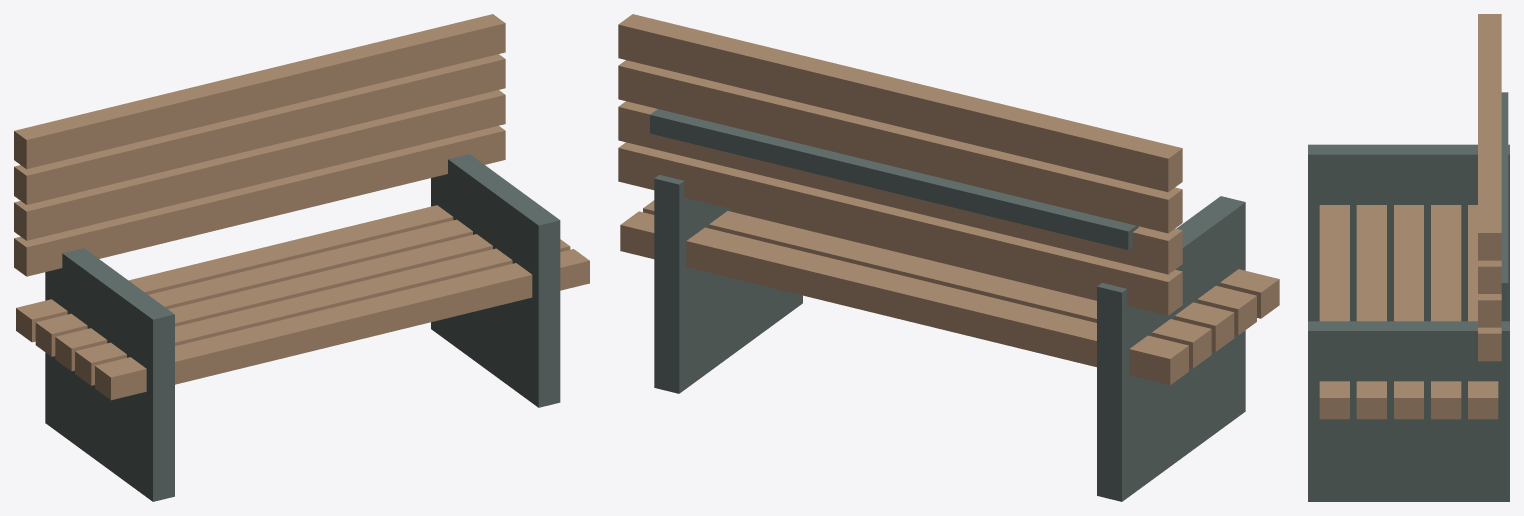
File: slatted-bench-identity.glb
3 renders of one model, left to right at view 1: azimuth 30°, elevation 25°; view 2: azimuth 150°, elevation 25°; view 3: azimuth 270°, elevation 25°, orthographic. The views are drawn at different scales.
Visible parts, largest first — view 1: slatted-bench-wood-identity, slatted-bench-metal-identity; view 2: slatted-bench-wood-identity, slatted-bench-metal-identity; view 3: slatted-bench-metal-identity, slatted-bench-wood-identity.
Part boxes in pixels (x1,y1,x2,y2): slatted-bench-wood-identity: [14, 14, 589, 400]; slatted-bench-metal-identity: [45, 154, 560, 501]; slatted-bench-wood-identity: [618, 14, 1279, 385]; slatted-bench-metal-identity: [650, 109, 1245, 501]; slatted-bench-metal-identity: [1308, 92, 1509, 501]; slatted-bench-wood-identity: [1319, 14, 1501, 419].
Size of the model in its own units: 0.77 by 0.4675 by 0.3.
